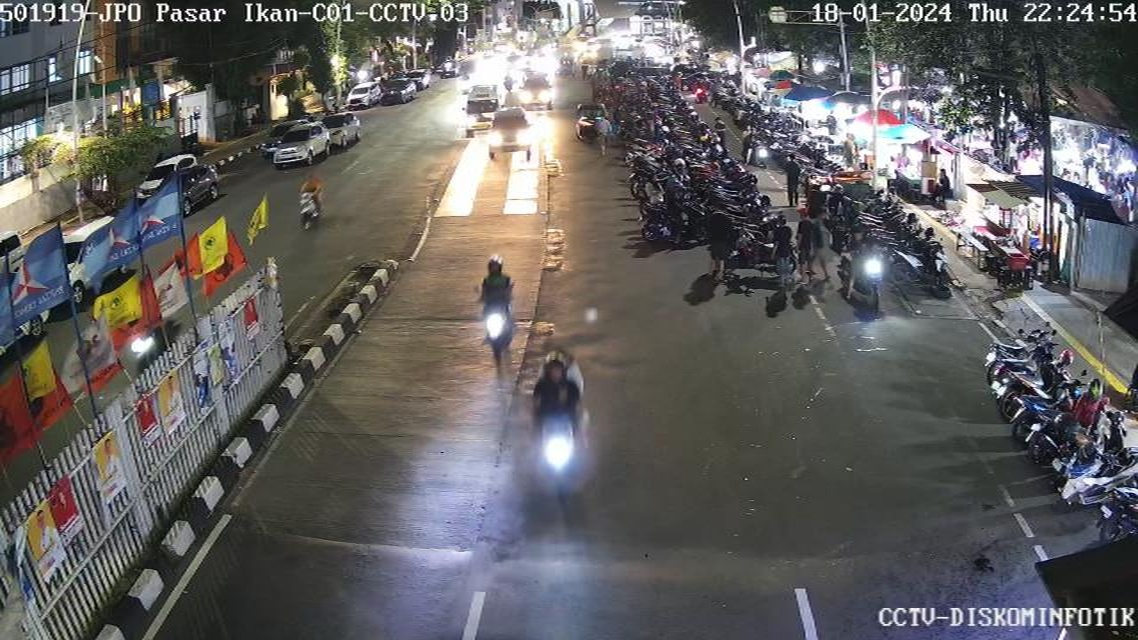Gerobak: (891, 140, 945, 203)
